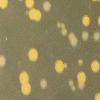yellow: (26, 7, 41, 22), (66, 30, 78, 48), (19, 82, 32, 96), (77, 71, 86, 90), (28, 46, 38, 62), (90, 60, 100, 74), (55, 60, 64, 75), (18, 71, 30, 82), (82, 13, 90, 28), (25, 0, 36, 10), (42, 0, 51, 12), (91, 29, 100, 41), (0, 0, 10, 10), (40, 78, 48, 90), (0, 54, 6, 68), (82, 30, 89, 42), (78, 56, 85, 66), (60, 21, 66, 30), (68, 78, 73, 88), (64, 62, 70, 70), (70, 85, 76, 93), (94, 92, 100, 100), (60, 30, 67, 36), (96, 16, 100, 24), (57, 20, 61, 28), (91, 0, 99, 3)
